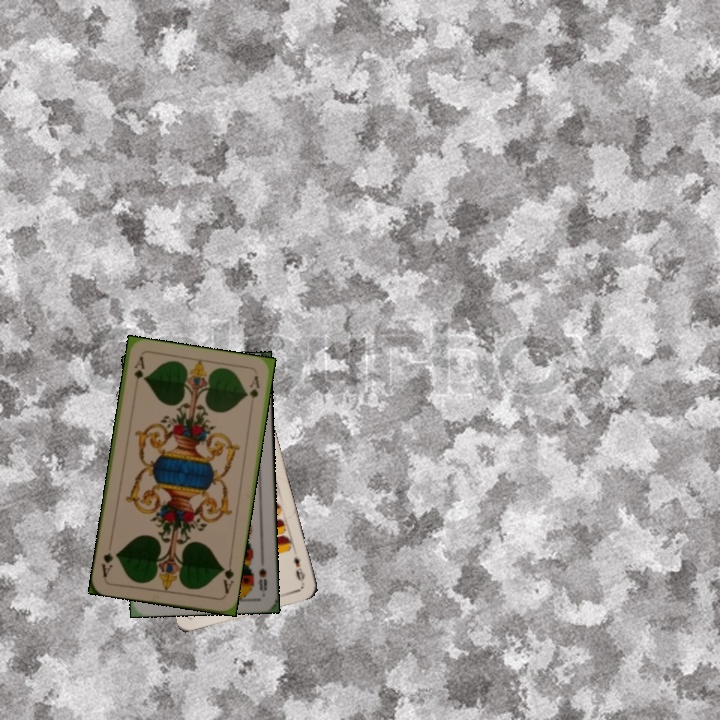E9: (289, 554, 308, 586)
GA: (130, 353, 147, 393), (217, 563, 236, 596)
S8: (254, 564, 269, 592)
